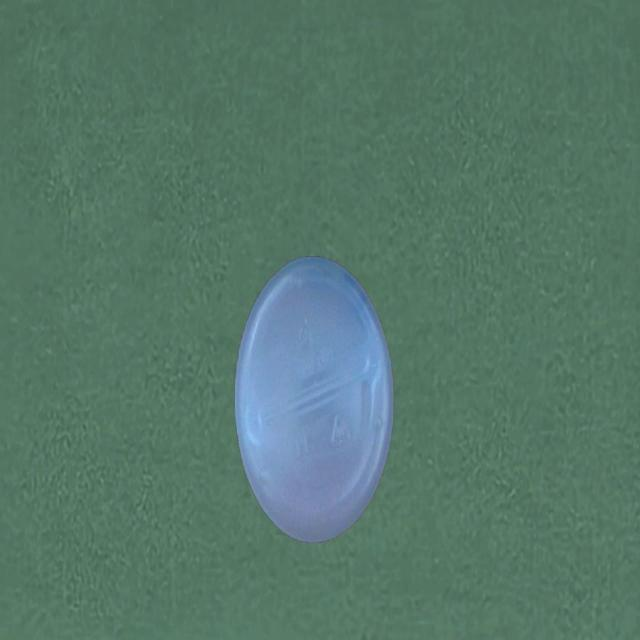bottle: (233, 253, 395, 546)
